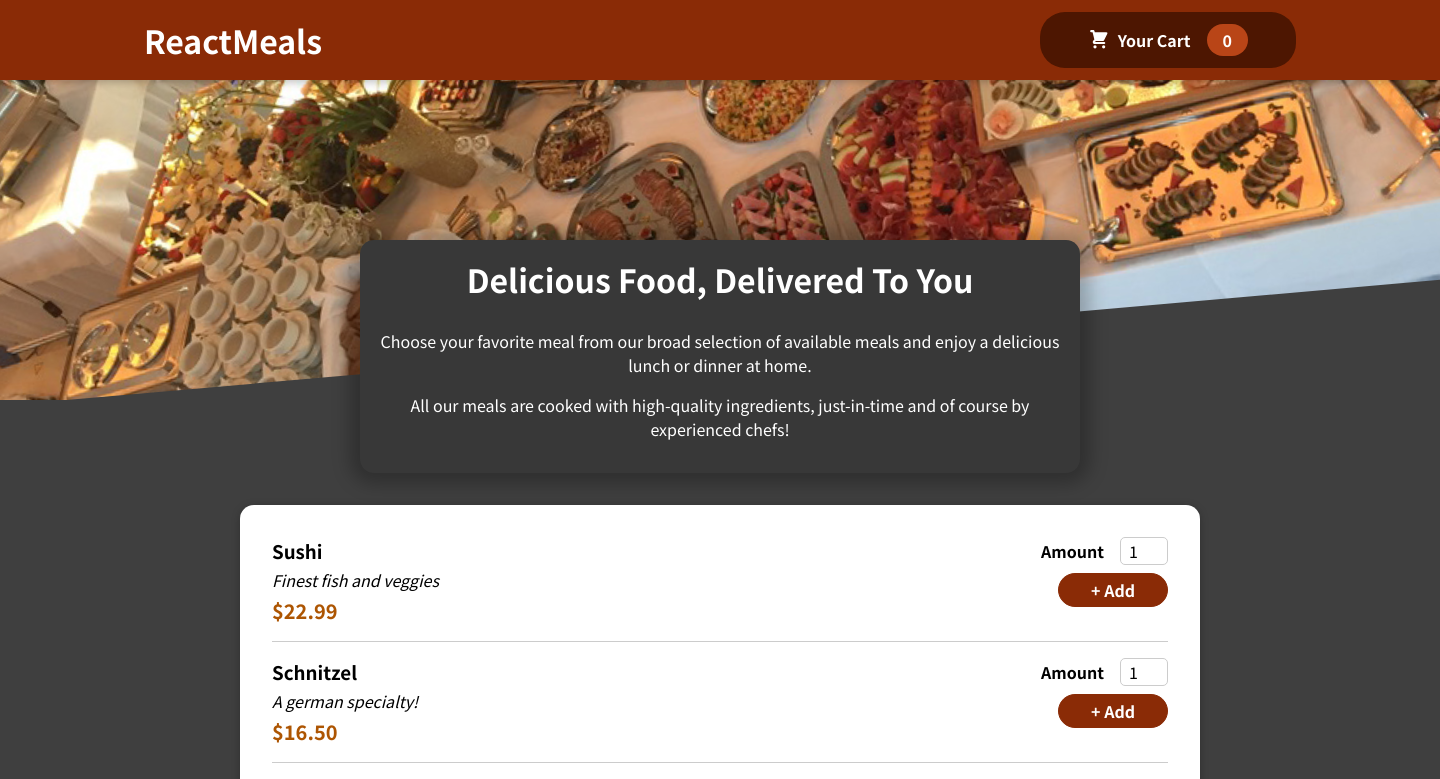
Test case: React Meals App Validation › should add multiple meals to the cart successfully and calculate the total amount correctly
Replace the text in the number field labelled "Amount" in the row of "Sushi" with "2". click: (1144, 551)
box: [1120,537,1168,565]
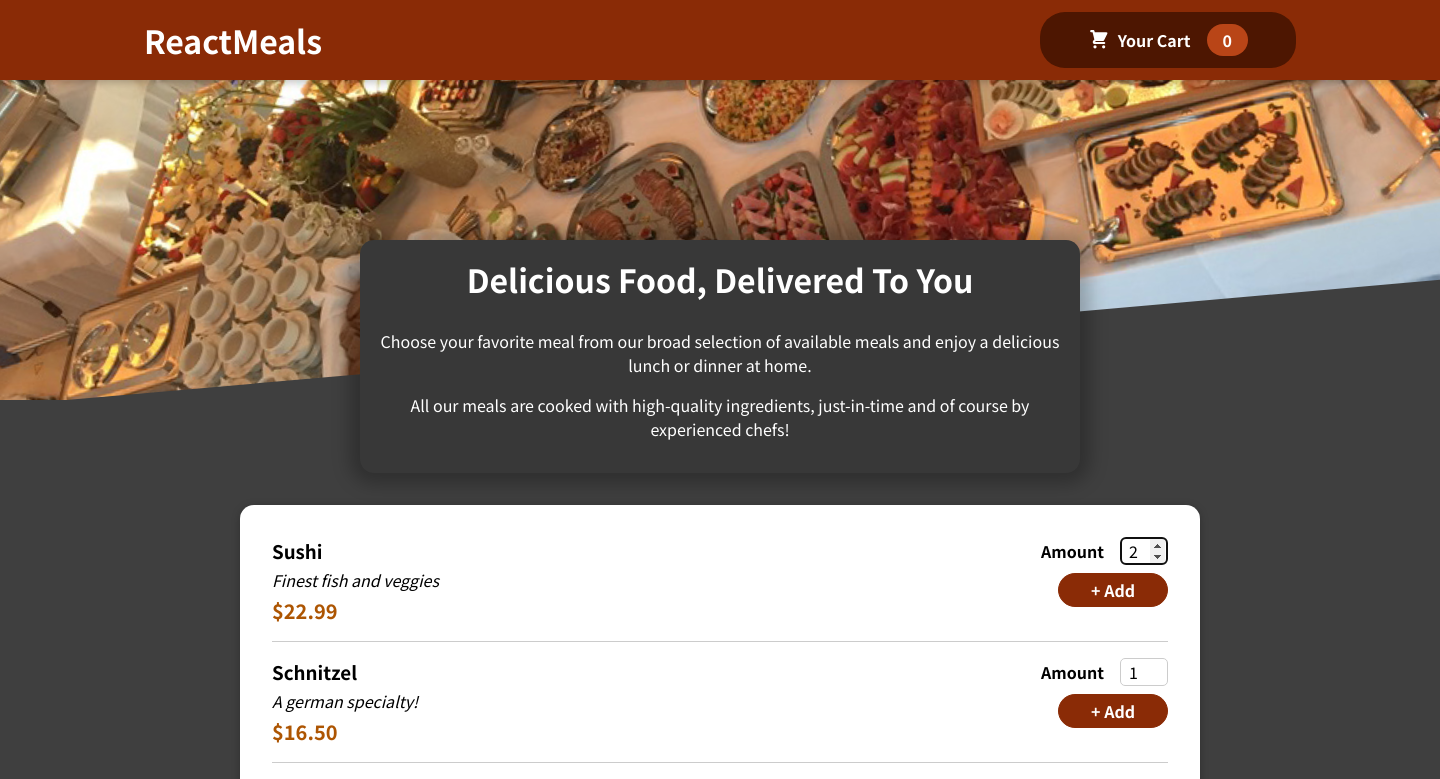
Click the button "+ Add" in the row of "Finest fish and veggies". click: (1113, 590)
box: [1058,573,1168,607]
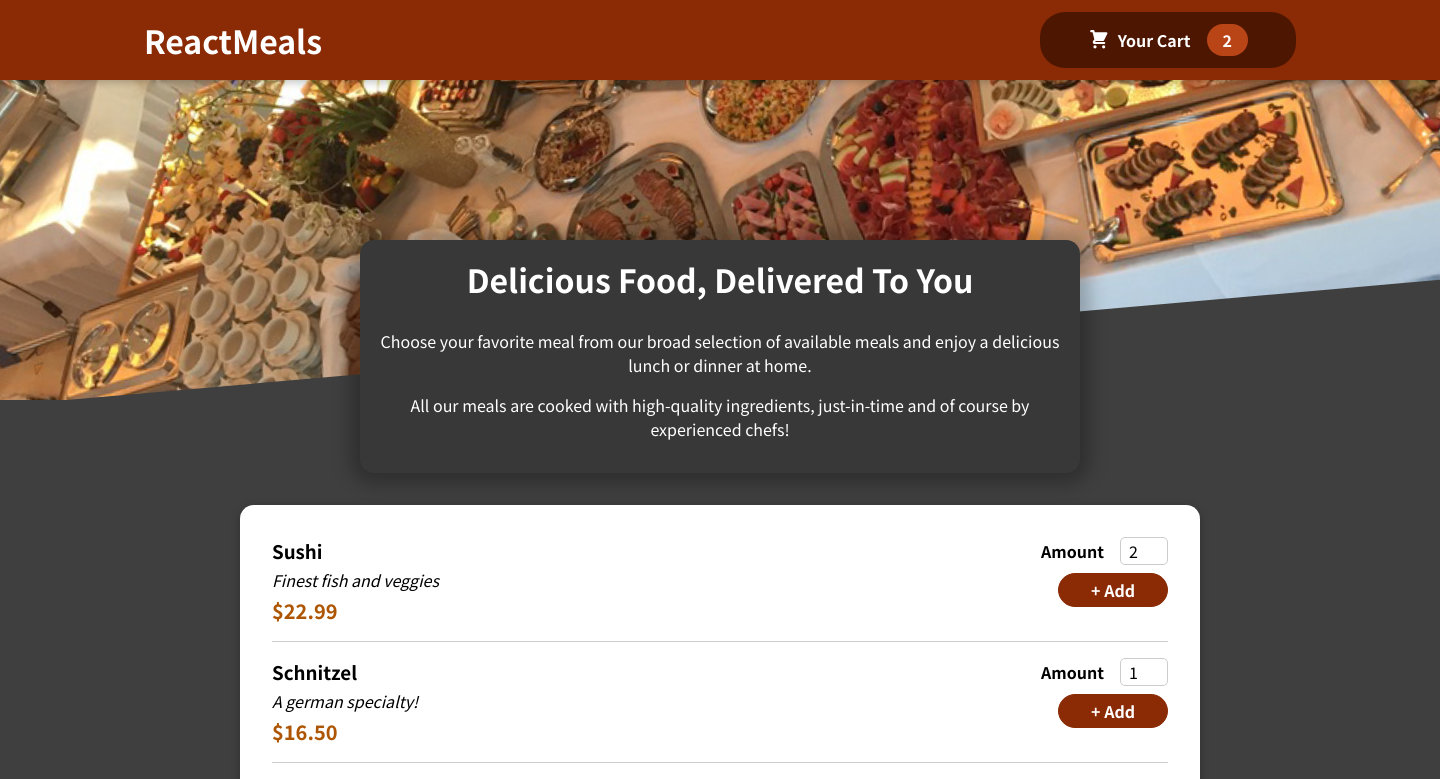
Replace the text in the number field labelled "Amount" in the row of "Schnitzel" with "2". click: (1144, 672)
box: [1120,658,1168,686]
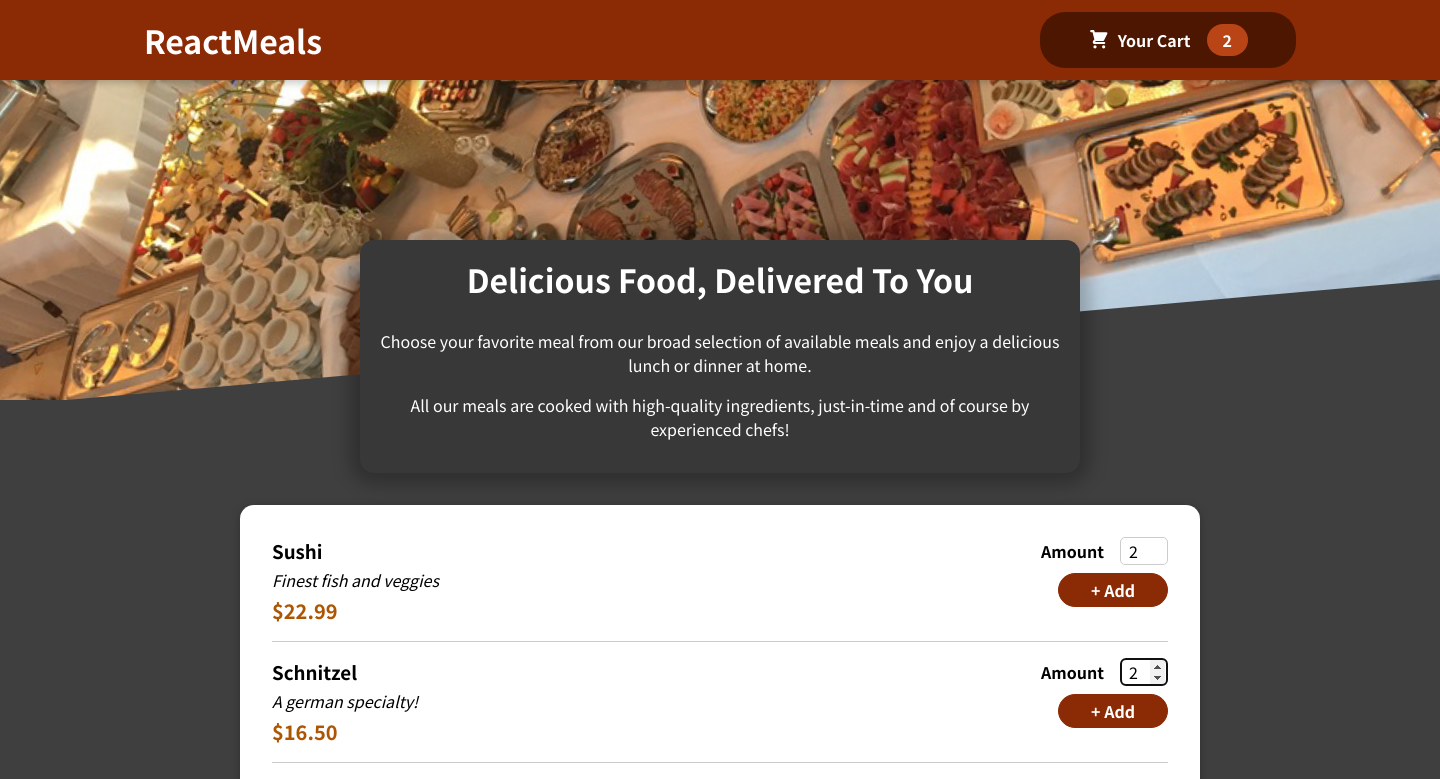
Click the button "+ Add" in the row of "A german specialty!". click: (1113, 711)
box: [1058,694,1168,728]
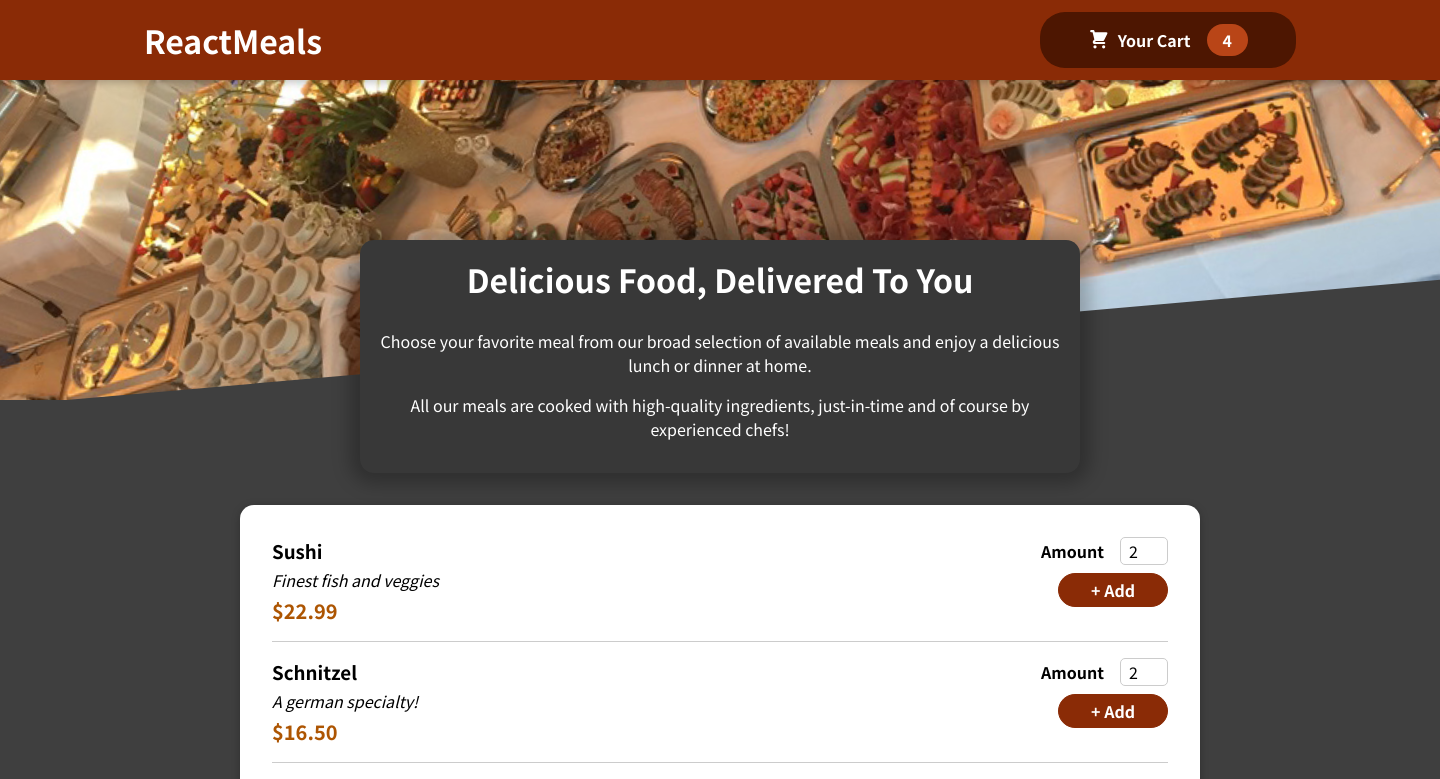
Result: the text "4" is shown
Click the text "4". click: (1228, 40)
box: [1207,24,1249,56]
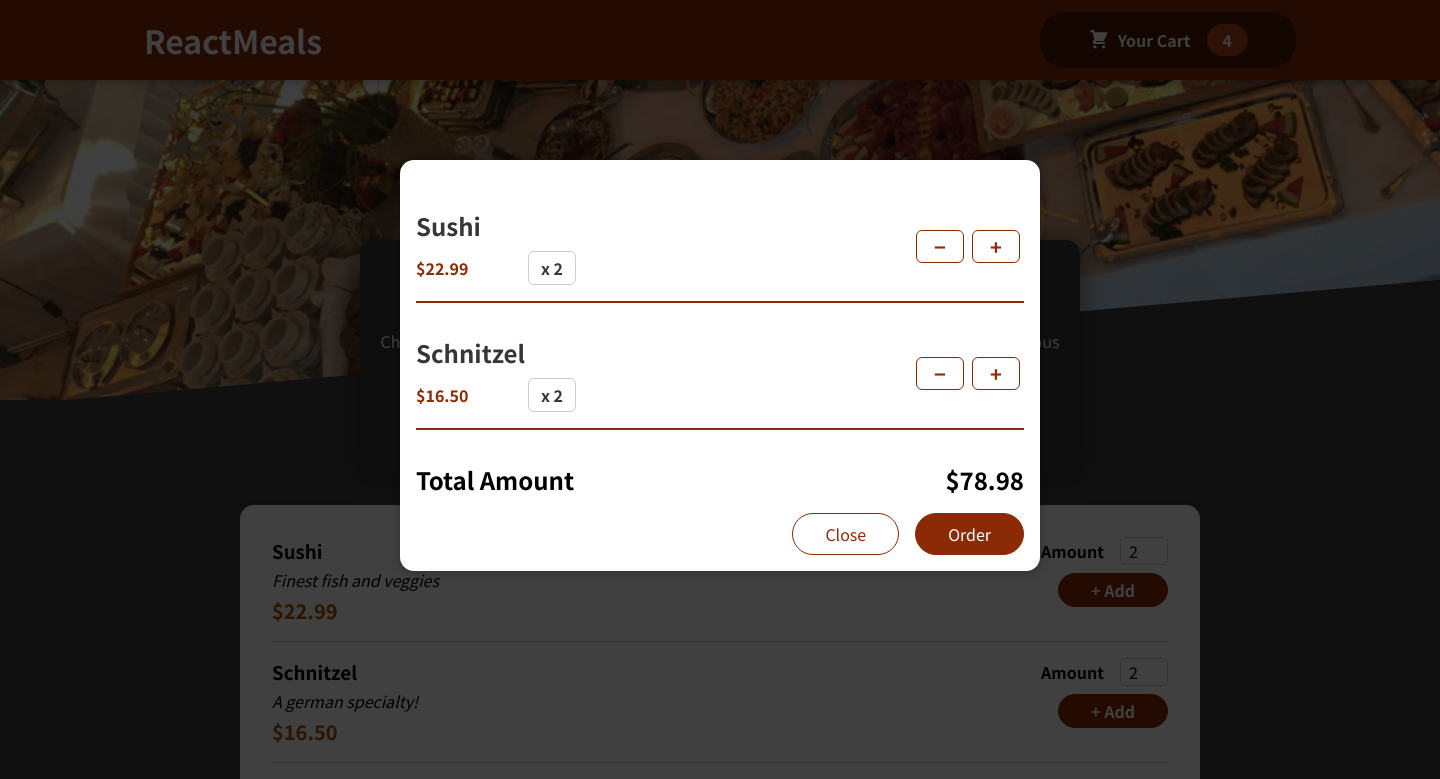
Result: the heading "Sushi" is shown at [416,208,481,243]
Result: the heading "Schnitzel" is shown at [416,335,525,370]
